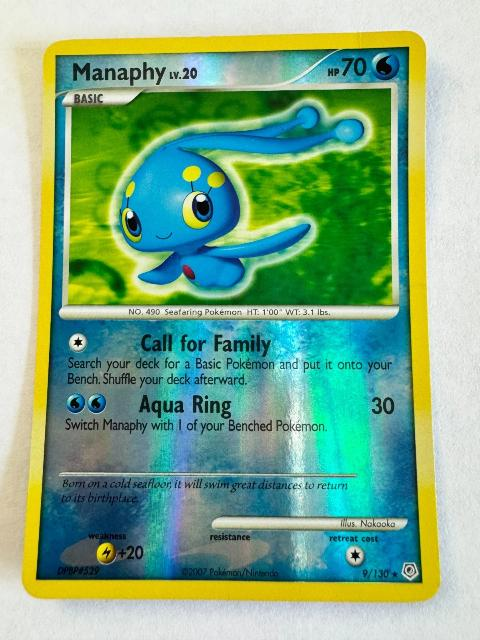Card: (17, 29, 445, 607)
Name: (67, 57, 169, 89)
